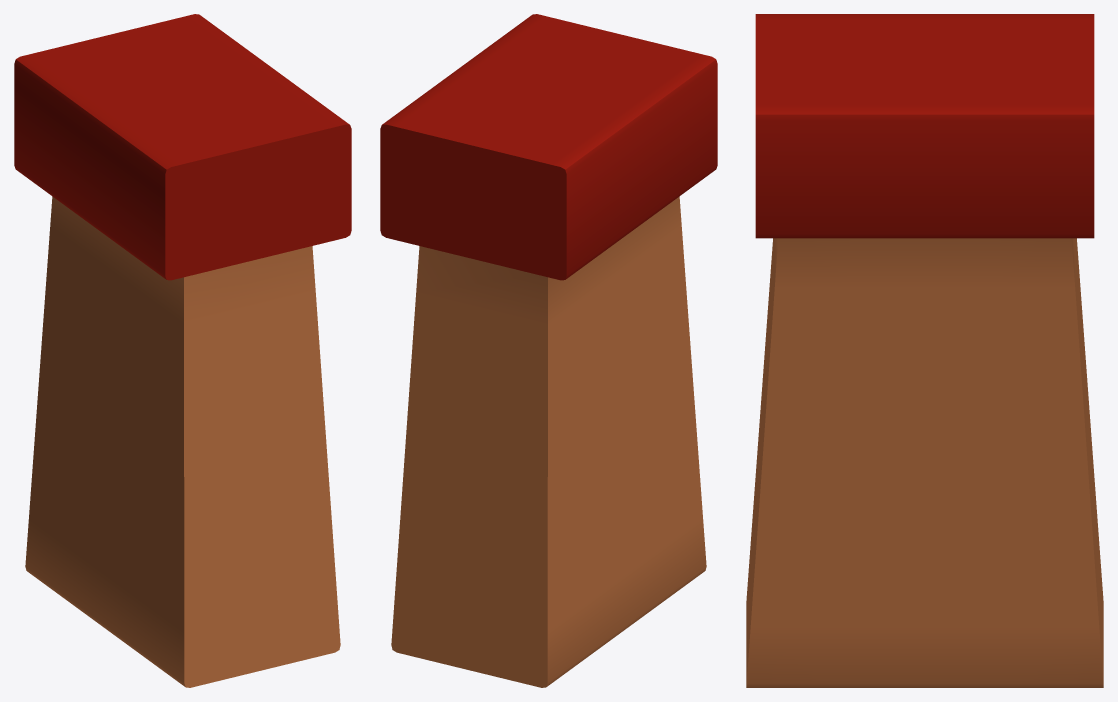
File: IntWallEnd1.fbx
3 views of the same model, side by side, from view 1: azimuth 30°, elevation 25°; view 2: azimuth 150°, elevation 25°; view 3: azimuth 270°, elevation 25° (orthographic). The views are drawn at different scales.
Parts seen in each view (by area): view 1: (Mapped) int wall end 1; view 2: (Mapped) int wall end 1; view 3: (Mapped) int wall end 1.
Boxes of the visible parts, bbox=[...] form: (Mapped) int wall end 1: bbox=[14, 14, 351, 687]; (Mapped) int wall end 1: bbox=[380, 14, 717, 687]; (Mapped) int wall end 1: bbox=[746, 14, 1103, 687].
Bounding box in the file's own units: 0.798 × 2.13 × 1.18.
